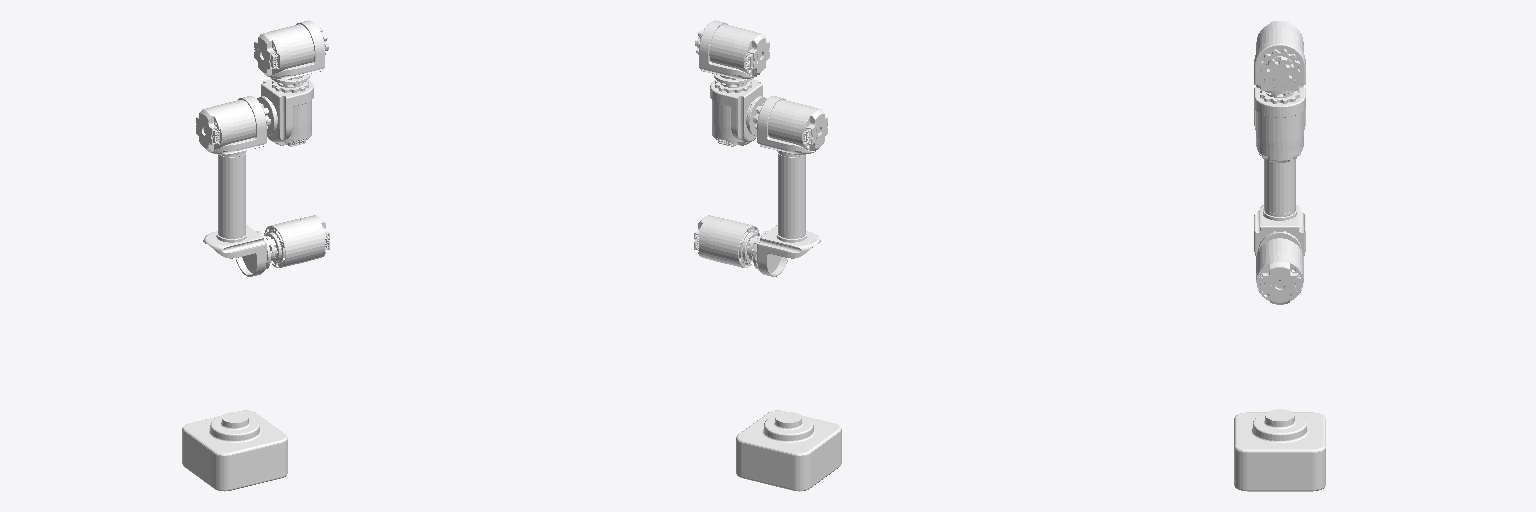
URDF robot description (gluon):
<?xml version="1.0" encoding="utf-8"?>
<!-- This URDF was automatically created by SolidWorks to URDF Exporter! Originally created by [author] ([email redacted]) 
     Commit Version: 1.5.1-0-g916b5db  Build Version: 1.5.7152.31018
     For more information, please see http://wiki.ros.org/sw_urdf_exporter -->
<robot
  name="gluon">
  <link
    name="dummy">
  </link>
  <link
    name="base_link">
    <inertial>
      <origin
        xyz="4.33680868994202E-18 -6.00214600243731E-11 0.0271404483614374"
        rpy="0 0 0" />
      <mass
        value="0.524001417146026" />
      <inertia
        ixx="0.000535467082580035"
        ixy="-5.8056109802237E-10"
        ixz="3.22416889484249E-20"
        iyy="0.000535467122847014"
        iyz="-1.91837356854663E-11"
        izz="0.000799852045598815" />
    </inertial>
    <visual>
      <origin
        xyz="0 0 0"
        rpy="0 0 0" />
      <geometry>
        <mesh
          filename="./meshes/base_link.STL" />
      </geometry>
      <material
        name="">
        <color
          rgba="1 1 1 1" />
      </material>
    </visual>
    <collision>
      <origin
        xyz="0 0 0"
        rpy="0 0 0" />
      <geometry>
        <mesh
          filename="./meshes/base_link.STL" />
      </geometry>
    </collision>
  </link>
  <link
    name="1_Link">
    <inertial>
      <origin
        xyz="0.00464247258603146 -3.55800695980568E-05 -0.000556506974114818"
        rpy="0 0 0" />
      <mass
        value="0.166259789544396" />
      <inertia
        ixx="6.76518298922659E-05"
        ixy="-1.5556489245956E-08"
        ixz="-8.15879264327807E-06"
        iyy="6.70385565720365E-05"
        iyz="4.11369338798553E-08"
        izz="6.03698353342124E-05" />
    </inertial>
    <visual>
      <origin
        xyz="0 0 0"
        rpy="0 0 0" />
      <geometry>
        <mesh
          filename="./meshes/1_Link.STL" />
      </geometry>
      <material
        name="">
        <color
          rgba="1 1 1 1" />
      </material>
    </visual>
    <collision>
      <origin
        xyz="0 0 0"
        rpy="0 0 0" />
      <geometry>
        <mesh
          filename="./meshes/1_Link.STL" />
      </geometry>
    </collision>
  </link>
  <link
    name="2_Link">
    <inertial>
      <origin
        xyz="-0.00354399449686532 6.83167072432211E-06 0.0535596075762168"
        rpy="0 0 0" />
      <mass
        value="0.316094041078938" />
      <inertia
        ixx="0.000174638310500152"
        ixy="-4.1835416811351E-08"
        ixz="-2.08841744154906E-07"
        iyy="0.000184936237600061"
        iyz="1.60668786323061E-08"
        izz="0.000107780595065675" />
    </inertial>
    <visual>
      <origin
        xyz="0 0 0"
        rpy="0 0 0" />
      <geometry>
        <mesh
          filename="./meshes/2_Link.STL" />
      </geometry>
      <material
        name="">
        <color
          rgba="1 1 1 1" />
      </material>
    </visual>
    <collision>
      <origin
        xyz="0 0 0"
        rpy="0 0 0" />
      <geometry>
        <mesh
          filename="./meshes/2_Link.STL" />
      </geometry>
    </collision>
  </link>
  <link
    name="3_Link">
    <inertial>
      <origin
        xyz="-0.046552753550141 -6.68259662081616E-06 0.0523242797053055"
        rpy="0 0 0" />
      <mass
        value="0.323135746651779" />
      <inertia
        ixx="0.000176611314431077"
        ixy="4.18325643591624E-08"
        ixz="2.08841259569185E-07"
        iyy="0.000185932099122903"
        iyz="1.40317731158265E-08"
        izz="0.000108776454638344" />
    </inertial>
    <visual>
      <origin
        xyz="0 0 0"
        rpy="0 0 0" />
      <geometry>
        <mesh
          filename="./meshes/3_Link.STL" />
      </geometry>
      <material
        name="">
        <color
          rgba="1 1 1 1" />
      </material>
    </visual>
    <collision>
      <origin
        xyz="0 0 0"
        rpy="0 0 0" />
      <geometry>
        <mesh
          filename="./meshes/3_Link.STL" />
      </geometry>
    </collision>
  </link>
  <link
    name="4_Link">
    <inertial>
      <origin
        xyz="0.0182269184920331 1.24412678982888E-05 0.00395855146065832"
        rpy="0 0 0" />
      <mass
        value="0.174947986817189" />
      <inertia
        ixx="6.61039276820243E-05"
        ixy="4.2340099438174E-08"
        ixz="-8.15879264340351E-06"
        iyy="6.76311730651952E-05"
        iyz="-1.4353323683088E-08"
        izz="6.34296690009448E-05" />
    </inertial>
    <visual>
      <origin
        xyz="0 0 0"
        rpy="0 0 0" />
      <geometry>
        <mesh
          filename="./meshes/4_Link.STL" />
      </geometry>
      <material
        name="">
        <color
          rgba="1 1 1 1" />
      </material>
    </visual>
    <collision>
      <origin
        xyz="0 0 0"
        rpy="0 0 0" />
      <geometry>
        <mesh
          filename="./meshes/4_Link.STL" />
      </geometry>
    </collision>
  </link>
  <link
    name="5_Link">
    <inertial>
      <origin
        xyz="0.00395855202736296 -3.51379306736399E-05 0.0182025903111476"
        rpy="0 0 0" />
      <mass
        value="0.174947985033356" />
      <inertia
        ixx="6.34296685392068E-05"
        ixy="1.43441999593359E-08"
        ixz="-8.15879467982627E-06"
        iyy="6.76311733496419E-05"
        iyz="-4.23418981680198E-08"
        izz="6.61039240611986E-05" />
    </inertial>
    <visual>
      <origin
        xyz="0 0 0"
        rpy="0 0 0" />
      <geometry>
        <mesh
          filename="./meshes/5_Link.STL" />
      </geometry>
      <material
        name="">
        <color
          rgba="1 1 1 1" />
      </material>
    </visual>
    <collision>
      <origin
        xyz="0 0 0"
        rpy="0 0 0" />
      <geometry>
        <mesh
          filename="./meshes/5_Link.STL" />
      </geometry>
    </collision>
  </link>
  <link
    name="6_Link">
    <inertial>
      <origin
        xyz="-0.00231632591813243 4.03819823737578E-05 -5.08515816782795E-05"
        rpy="0 0 0" />
      <mass
        value="0.122091979083374" />
      <inertia
        ixx="3.76561532469651E-05"
        ixy="4.18325643595058E-08"
        ixz="-2.08841259371089E-07"
        iyy="4.00422747874576E-05"
        iyz="-1.50489542382975E-08"
        izz="3.97966719504564E-05" />
    </inertial>
    <visual>
      <origin
        xyz="0 0 0"
        rpy="0 0 0" />
      <geometry>
        <mesh
          filename="./meshes/6_Link.STL" />
      </geometry>
      <material
        name="">
        <color
          rgba="1 1 1 1" />
      </material>
    </visual>
    <collision>
      <origin
        xyz="0 0 0"
        rpy="0 0 0" />
      <geometry>
        <mesh
          filename="./meshes/6_Link.STL" />
      </geometry>
    </collision>
  </link>
  <joint
    name="dummy_joint"
    type="fixed">
    <origin
        xyz="0 0 0"
        rpy="0 0 0" />
    <parent
        link="dummy" />
    <child
        link="base_link" />
  </joint>
  <joint
    name="axis_joint_1"
    type="revolute">
    <origin
      xyz="-2.4327E-05 2.2695E-05 0.105"
      rpy="0 0 0" />
    <parent
      link="base_link" />
    <child
      link="1_Link" />
    <axis
      xyz="0 0 -1" />
    <limit
      lower="-2.79"
      upper="2.79"
      effort="30"
      velocity="3.14" />
  </joint>
  <joint
    name="axis_joint_2"
    type="revolute">
    <origin
      xyz="0.080113 -2.2695E-05 0"
      rpy="0 0 0" />
    <parent
      link="1_Link" />
    <child
      link="2_Link" />
    <axis
      xyz="-1 0 0" />
    <limit
      lower="-1.54"
      upper="1.54"
      effort="30"
      velocity="3.14" />
  </joint>
  <joint
    name="axis_joint_3"
    type="revolute">
    <origin
      xyz="0 0 0.17447"
      rpy="0 0 0" />
    <parent
      link="2_Link" />
    <child
      link="3_Link" />
    <axis
      xyz="1 0 0" />
    <limit
      lower="-2.79"
      upper="2.79"
      effort="30"
      velocity="3.14" />
  </joint>
  <joint
    name="axis_joint_4"
    type="revolute">
    <origin
      xyz="-0.084516 0 0.17442"
      rpy="0 0 0" />
    <parent
      link="3_Link" />
    <child
      link="4_Link" />
    <axis
      xyz="-1 0 0" />
    <limit
      lower="-2.79"
      upper="2.79"
      effort="30"
      velocity="3.14" />
  </joint>
  <joint
    name="axis_joint_5"
    type="revolute">
    <origin
      xyz="0.080113 2.2695E-05 0"
      rpy="0 0 0" />
    <parent
      link="4_Link" />
    <child
      link="5_Link" />
    <axis
      xyz="0 0 1" />
    <limit
      lower="-2.79"
      upper="2.79"
      effort="30"
      velocity="3.14" />
  </joint>
  <joint
    name="axis_joint_6"
    type="revolute">
    <origin
      xyz="0 -4.5391E-05 0.080089"
      rpy="0 0 0" />
    <parent
      link="5_Link" />
    <child
      link="6_Link" />
    <axis
      xyz="-1 0 0" />
    <limit
      lower="-2.79"
      upper="2.79"
      effort="30"
      velocity="3.14" />
  </joint>
</robot>

--- Facts derived from the render (not from the file) ---
The picture shows the robot from 3 angles, left to right: view 1: azimuth 30°, elevation 25°; view 2: azimuth 150°, elevation 25°; view 3: azimuth 270°, elevation 25°; orthographic projection.
Model gluon with 8 links and 7 joints (6 revolute, 1 fixed), rooted at dummy, posed all joints at 0.
Visible links, largest first — view 1: 3_Link, base_link, 4_Link, 6_Link, 5_Link; view 2: 3_Link, base_link, 4_Link, 6_Link, 5_Link; view 3: base_link, 3_Link, 5_Link, 6_Link, 4_Link.
Link boxes in pixels (x1,y1,x2,y2): 3_Link: (203,96,329,276); base_link: (182,410,287,491); 4_Link: (196,79,313,150); 6_Link: (254,24,328,75); 5_Link: (264,20,325,146); 3_Link: (694,96,820,276); base_link: (736,410,841,491); 4_Link: (710,79,827,150); 6_Link: (695,24,769,75); 5_Link: (698,20,759,146); base_link: (1234,409,1325,491); 3_Link: (1254,86,1305,304); 5_Link: (1254,39,1305,162); 6_Link: (1256,21,1303,85); 4_Link: (1254,85,1305,129).
Size in the robot's own frame: 0.17 by 0.1 by 0.5618 metres.
5 mesh visuals loaded from 7 distinct referenced files (5 binary STL); not drawn: 2 (reference not matched to a file when rendering).